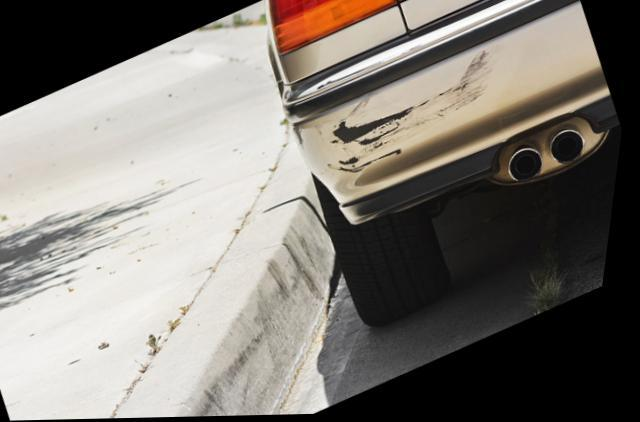scratch: (327, 43, 495, 175)
